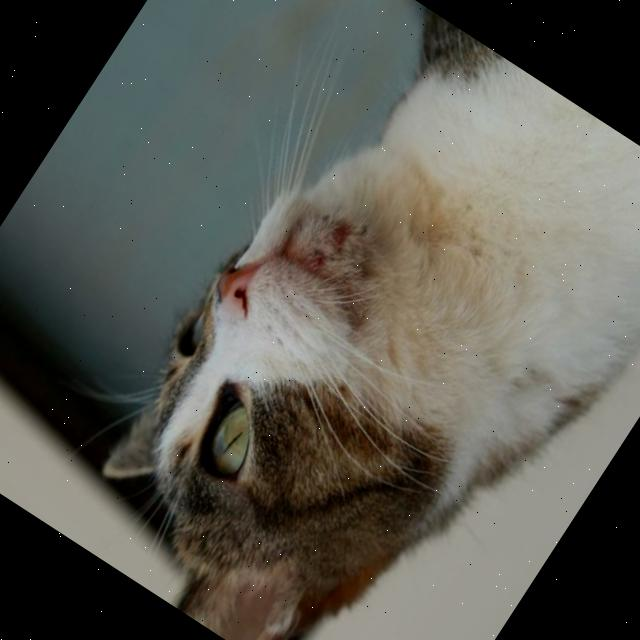cat-dermatitis: (322, 220, 356, 256), (302, 246, 330, 276)
